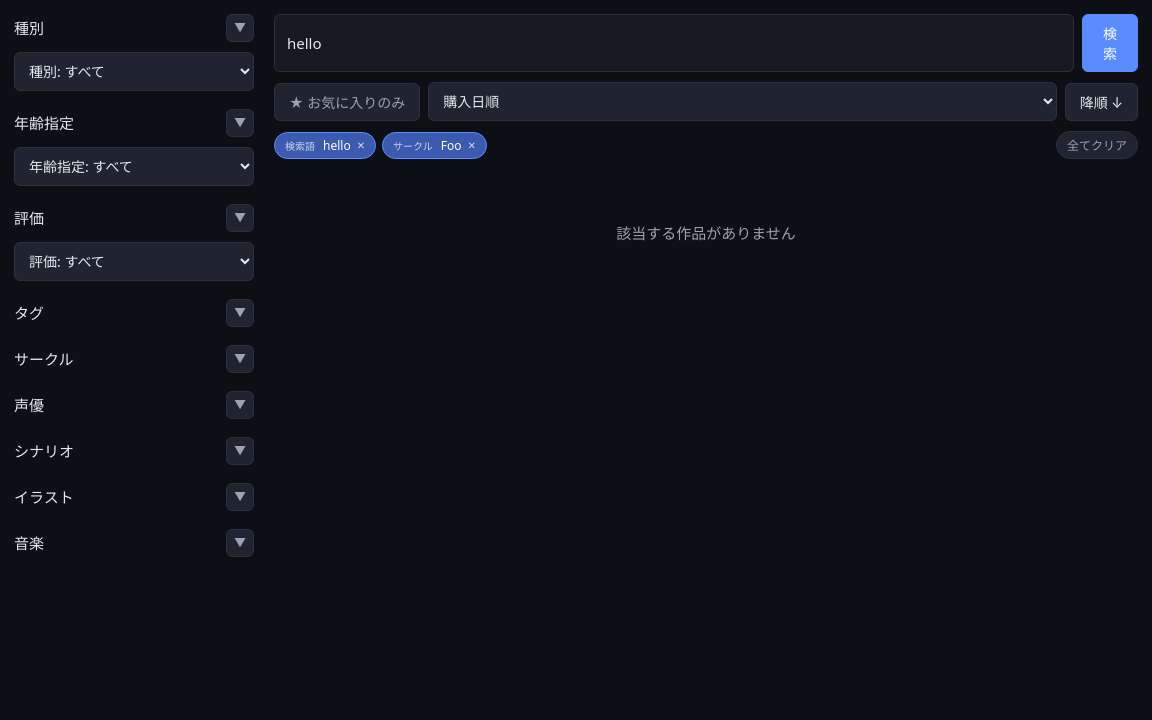
Test case: 全てクリアボタン (#30) › 「全てクリア」をクリックすると検索入力欄も空になる
The width and height of the screenshot is (1152, 720).
Expected: the search field holds "hello", top-left (274, 14), bottom-right (1074, 72)
Click the button "全てクリア" at (1097, 145), box top-left (1056, 131), bottom-right (1138, 159)
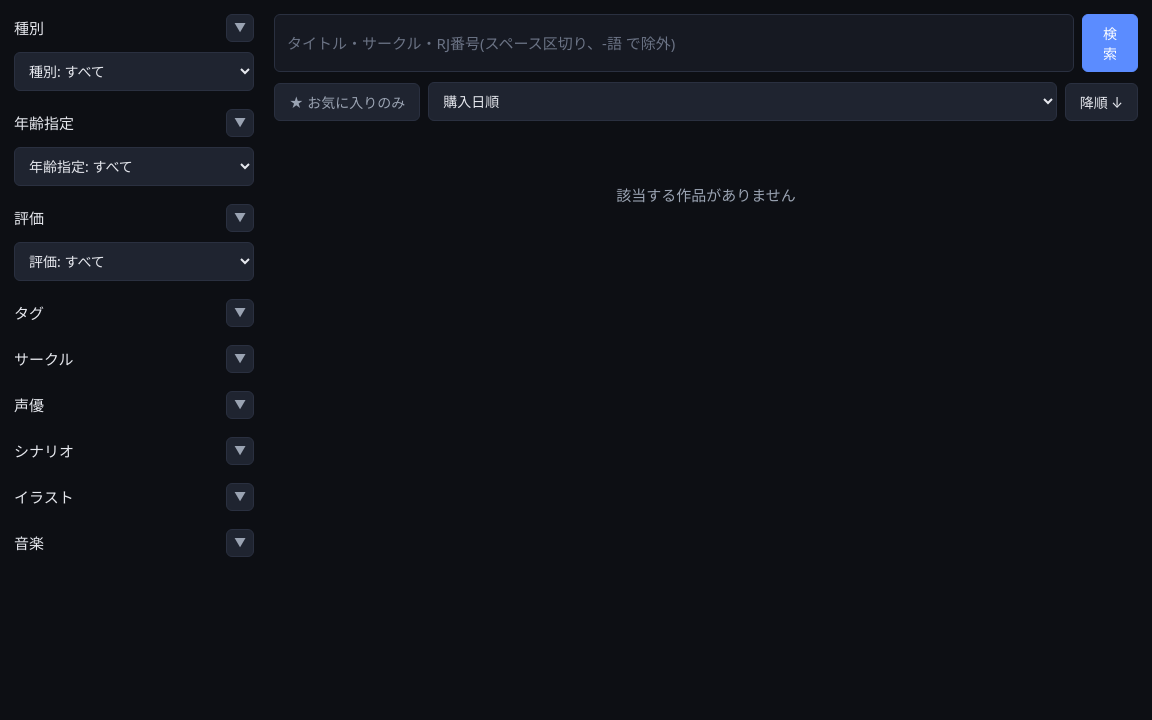
Expected: the search field is empty, top-left (274, 14), bottom-right (1074, 72)
